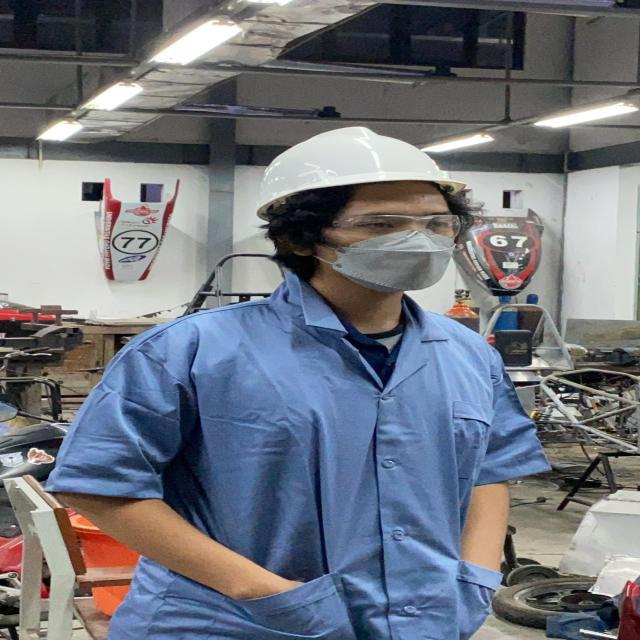glasses: (328, 208, 467, 239)
